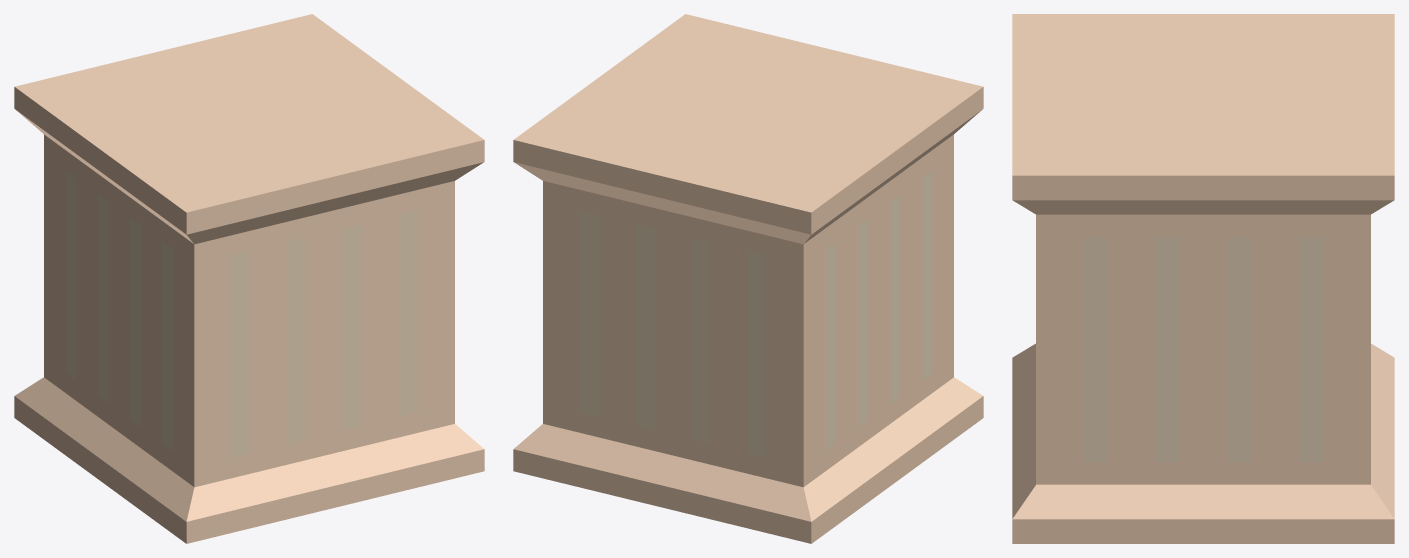
File: Pedestal.gltf
3 views of the same model, side by side, from view 1: azimuth 30°, elevation 25°; view 2: azimuth 150°, elevation 25°; view 3: azimuth 270°, elevation 25° (orthographic). The views are drawn at different scales.
Parts seen in each view (by area): view 1: cuboid; view 2: cuboid; view 3: cuboid.
Part boxes in pixels (<box>): cuboid: <box>14,14,484,543</box>; cuboid: <box>513,14,983,543</box>; cuboid: <box>1012,14,1394,543</box>.
Size of the model in its own units: 1 by 1.06 by 1.
1 material, 1 textured.
